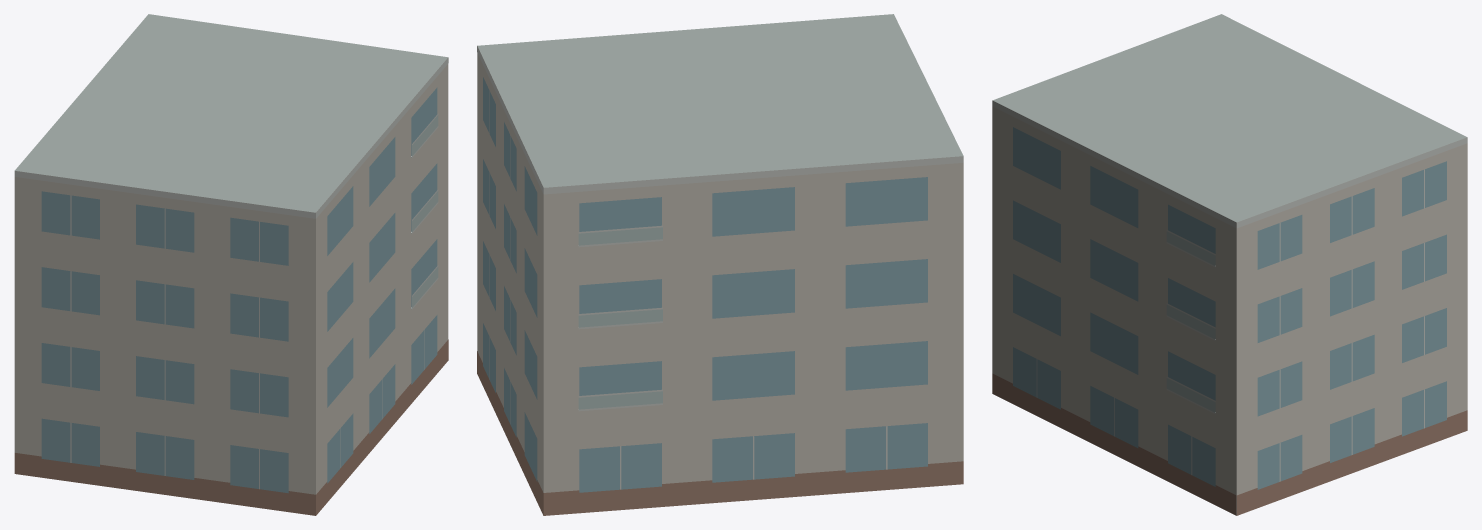
File: survey-upis-32934269.glb
3 views of the same model, side by side, from view 1: azimuth 30°, elevation 25°; view 2: azimuth 150°, elevation 25°; view 3: azimuth 270°, elevation 25° (orthographic). The views are drawn at different scales.
Visible parts, largest first — view 1: survey-upis-32934269.tmp; view 2: survey-upis-32934269.tmp; view 3: survey-upis-32934269.tmp.
Boxes of the visible parts, x1,y1,x2,y2 form: survey-upis-32934269.tmp: (14,14,448,515); survey-upis-32934269.tmp: (477,14,963,515); survey-upis-32934269.tmp: (992,14,1467,515).
Size of the model in its own units: 18.46 by 12.1 by 17.77.
